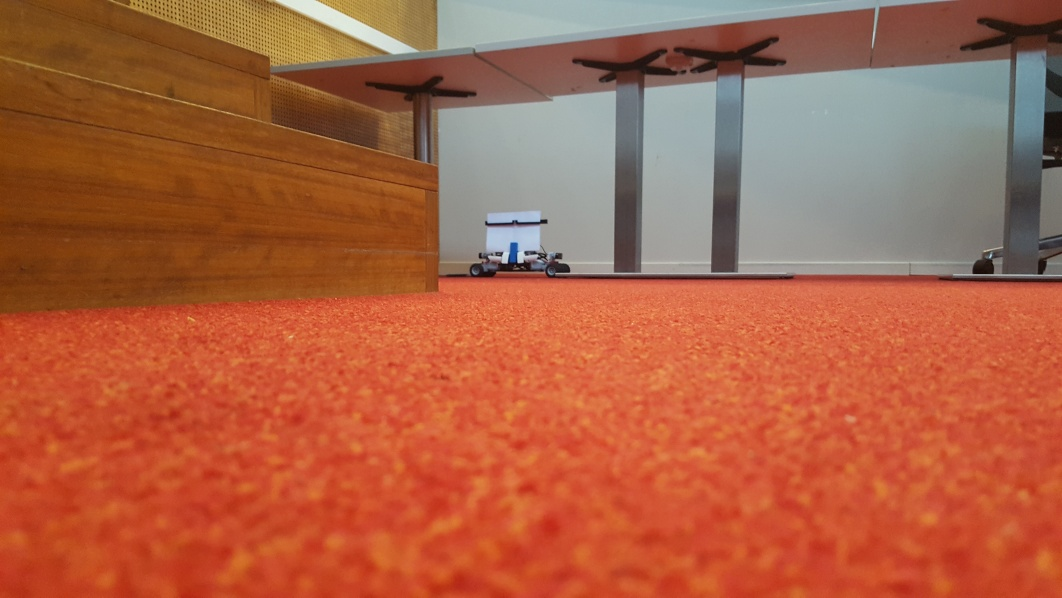car: (471, 209, 570, 281)
